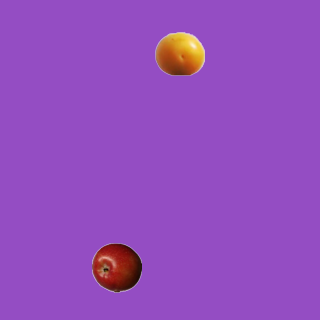Apple Braeburn: (91, 242, 141, 292)
Cherry Wax Yellow: (154, 28, 204, 78)
